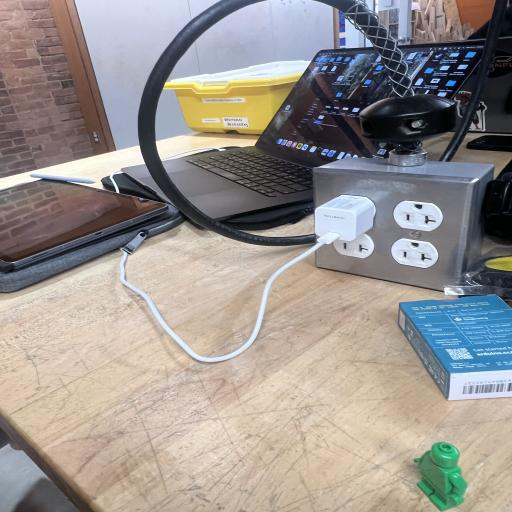green-lego-minifigure-detector: (414, 442, 467, 511)
